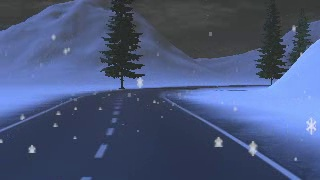Lane: (0, 84, 304, 179)
